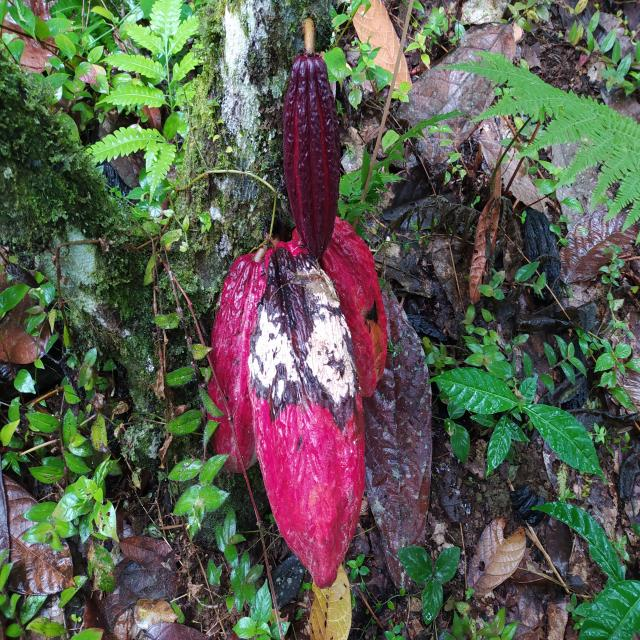Monilia: (250, 251, 364, 589)
Sana: (282, 47, 344, 264), (212, 246, 258, 474), (334, 220, 384, 397)
